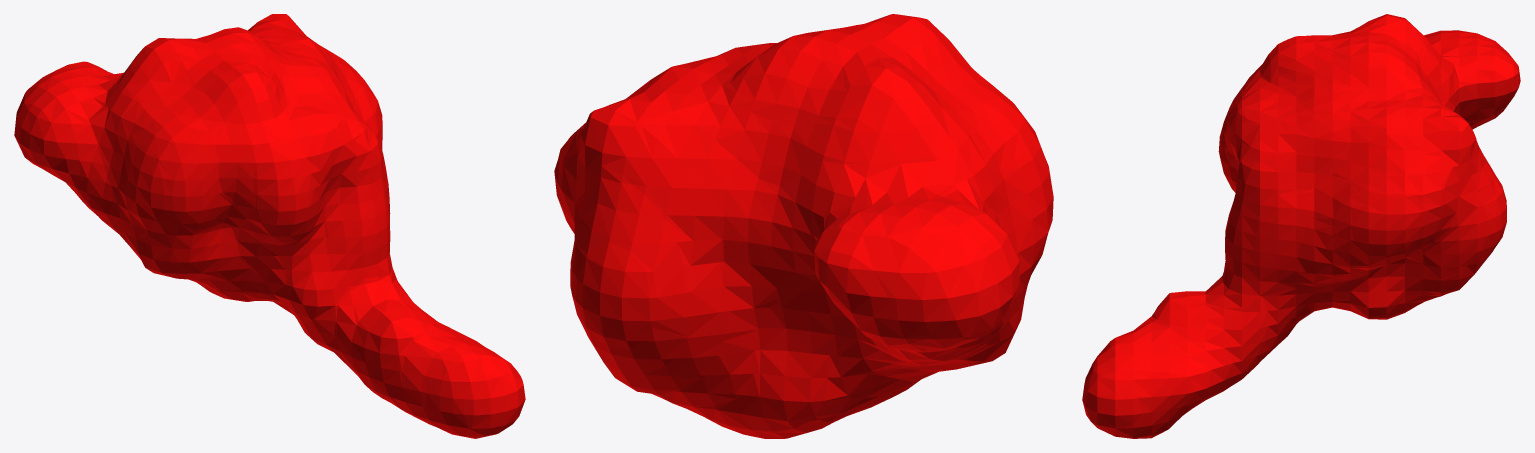
File: rplJ_coarse.dae
The picture shows the model from 3 angles, left to right: view 1: azimuth 30°, elevation 25°; view 2: azimuth 150°, elevation 25°; view 3: azimuth 270°, elevation 25°; orthographic projection. The views are drawn at different scales.
Visible parts, largest first — view 1: rplJ; view 2: rplJ; view 3: rplJ.
Part boxes in pixels (bbox=[...]): rplJ: bbox=[14, 14, 525, 438]; rplJ: bbox=[554, 14, 1053, 438]; rplJ: bbox=[1082, 14, 1520, 438].
Size of the model in its own units: 47.83 by 47.74 by 56.42.
